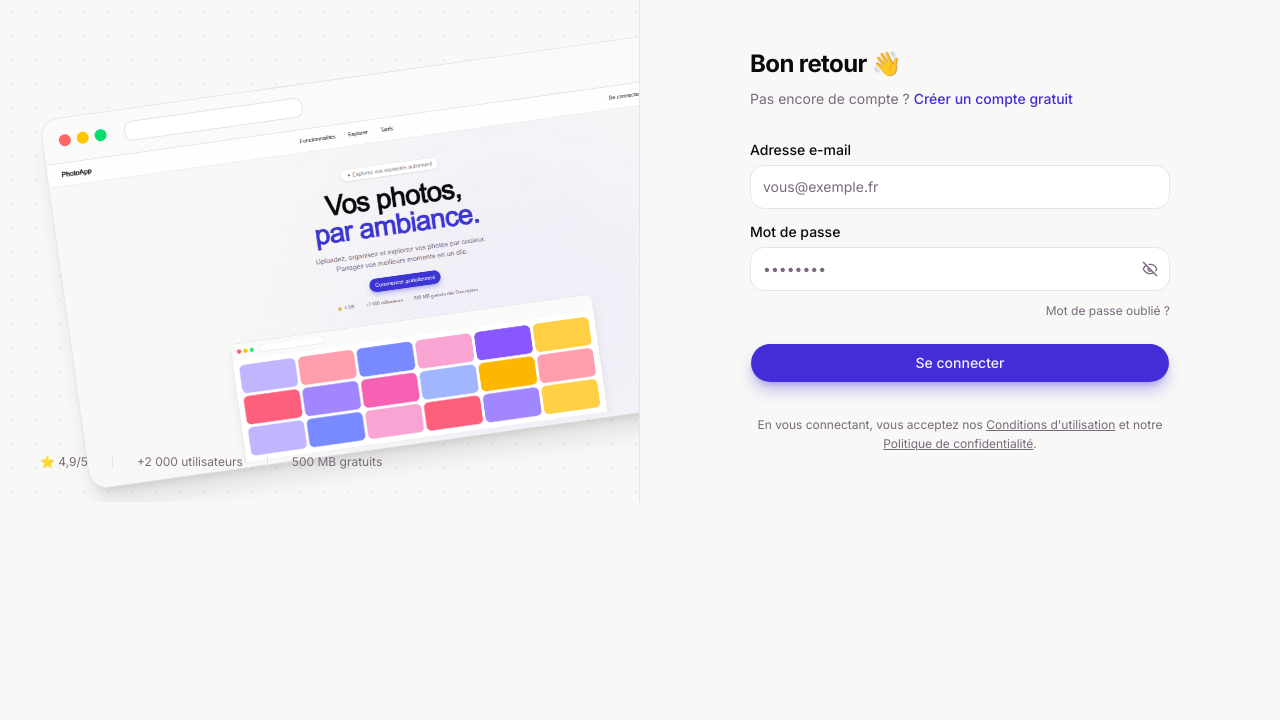
it: LoginPage › affiche une erreur Zod pour un mot de passe trop court
In the field labelled "Adresse e-mail": (960, 187) [750,165,1170,209], type "user@example.com"
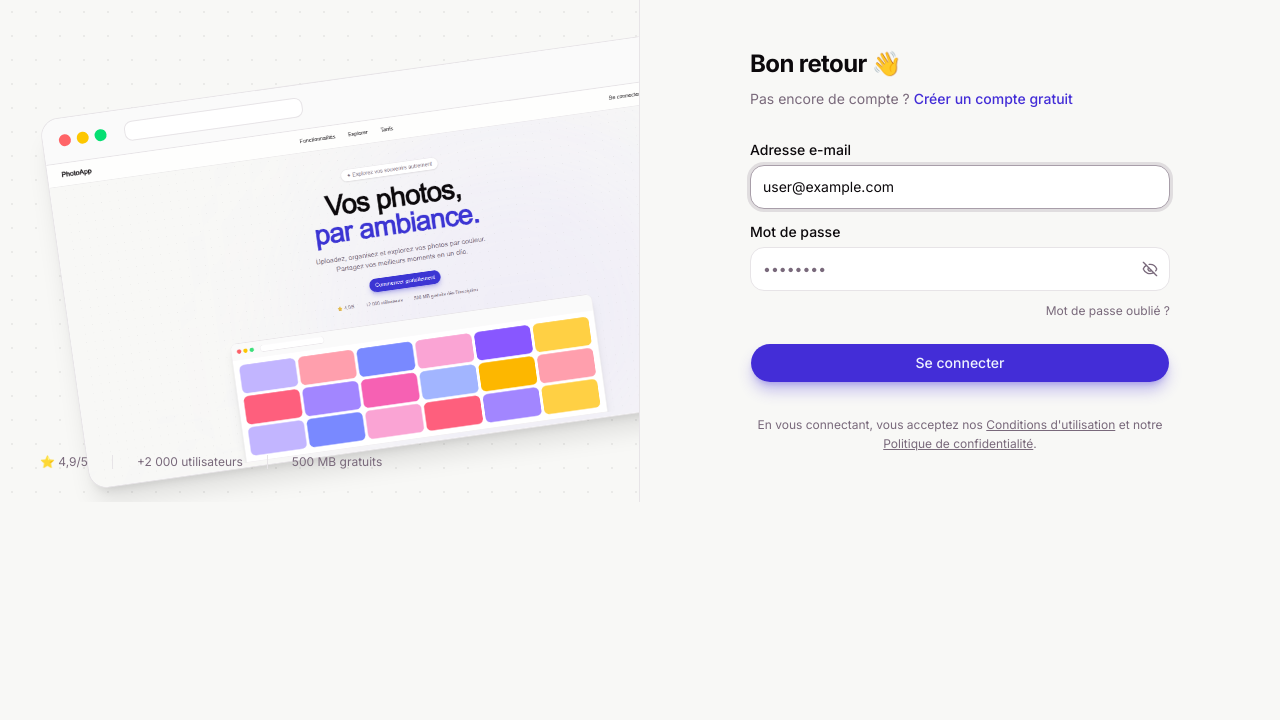
In the password field labelled "Mot de passe": (960, 269) [750,247,1170,291], type "123"
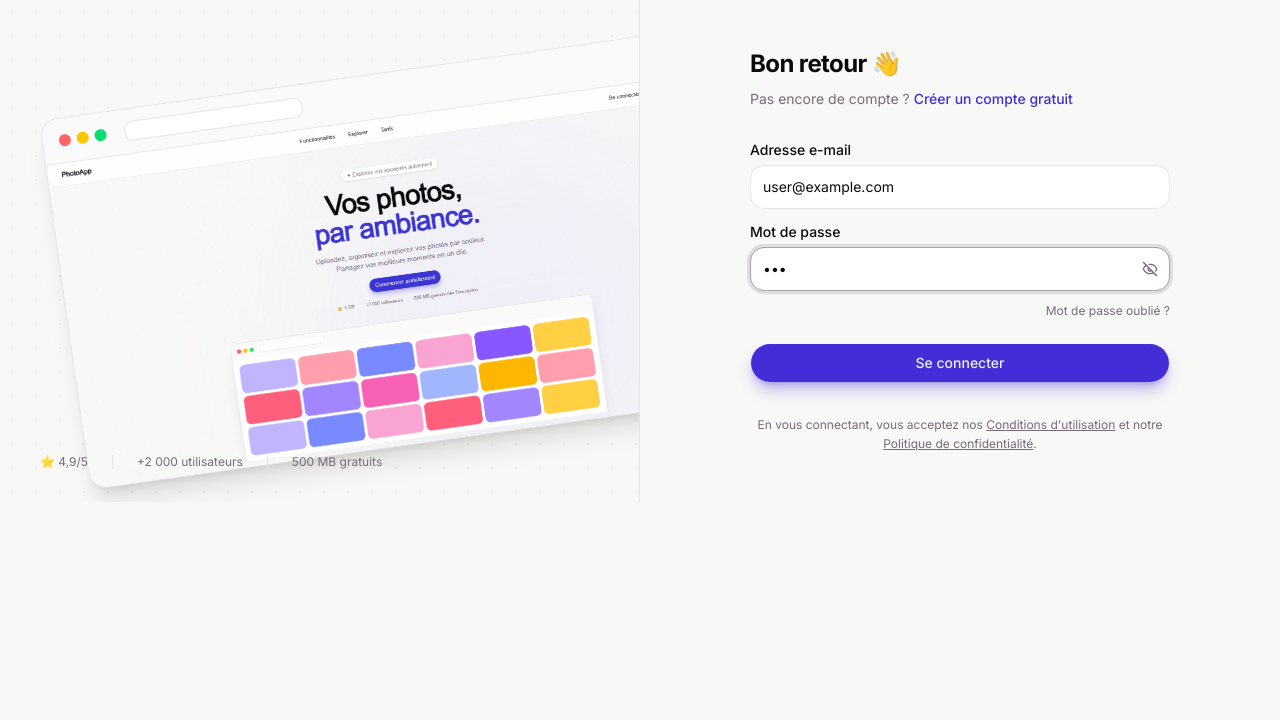
Click the button "Se connecter": (960, 363) [750,343,1170,383]
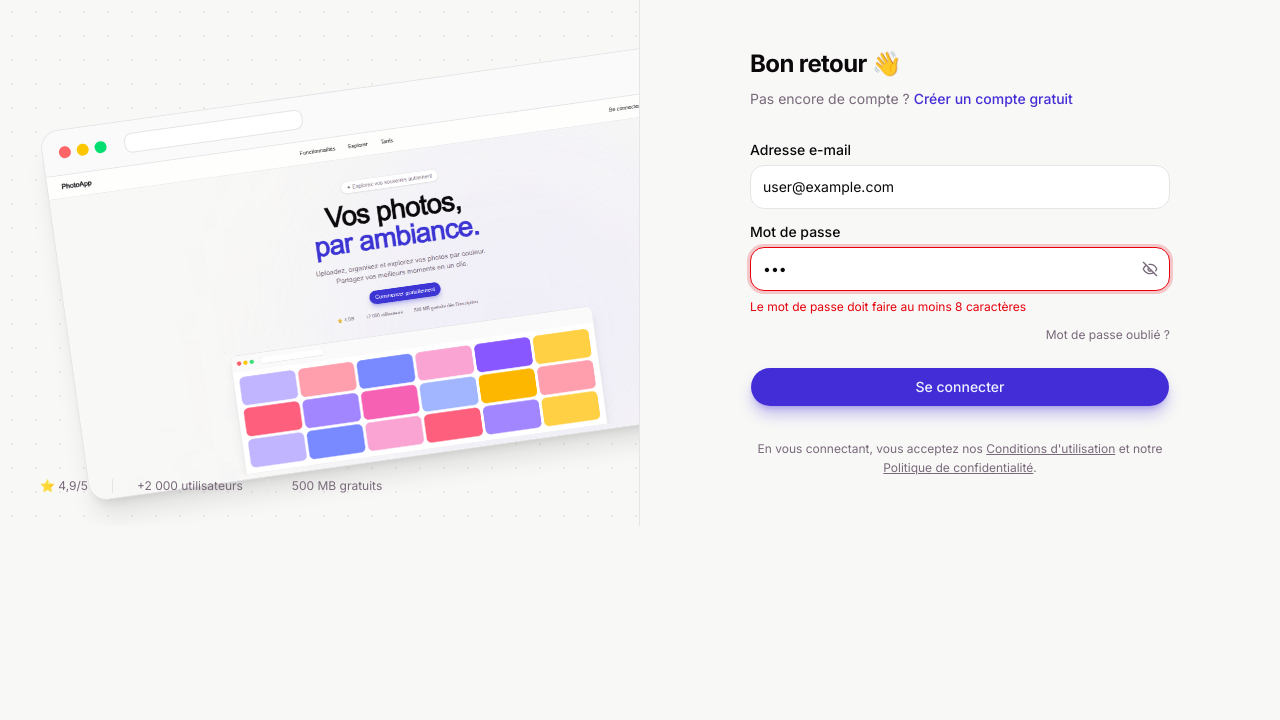
Check: the text "Le mot de passe doit faire au moins 8 caractères" is shown, box [750,299,1026,314]
